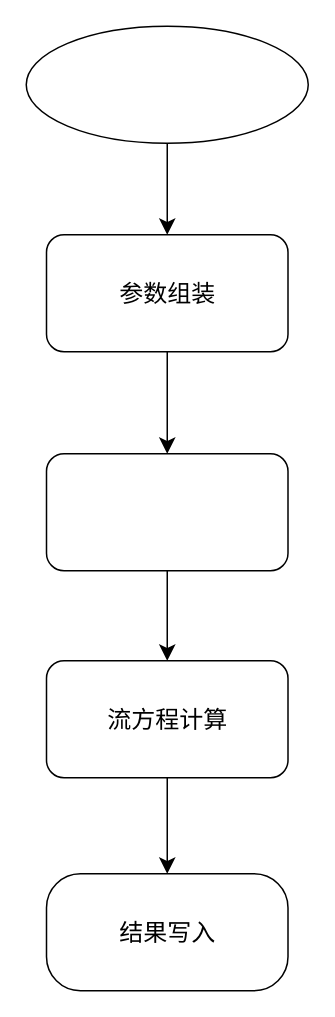
The diagram is 335 pixels wide and 1017 high, and some of its shapes have lost their labels. Here are the shapes that lost their labels. From the top down, the box of each, then its label:
(25, 25, 308, 143): 输入参数（维度、系统大小、无序类型）
(45, 452, 288, 571): 构造哈密顿量
